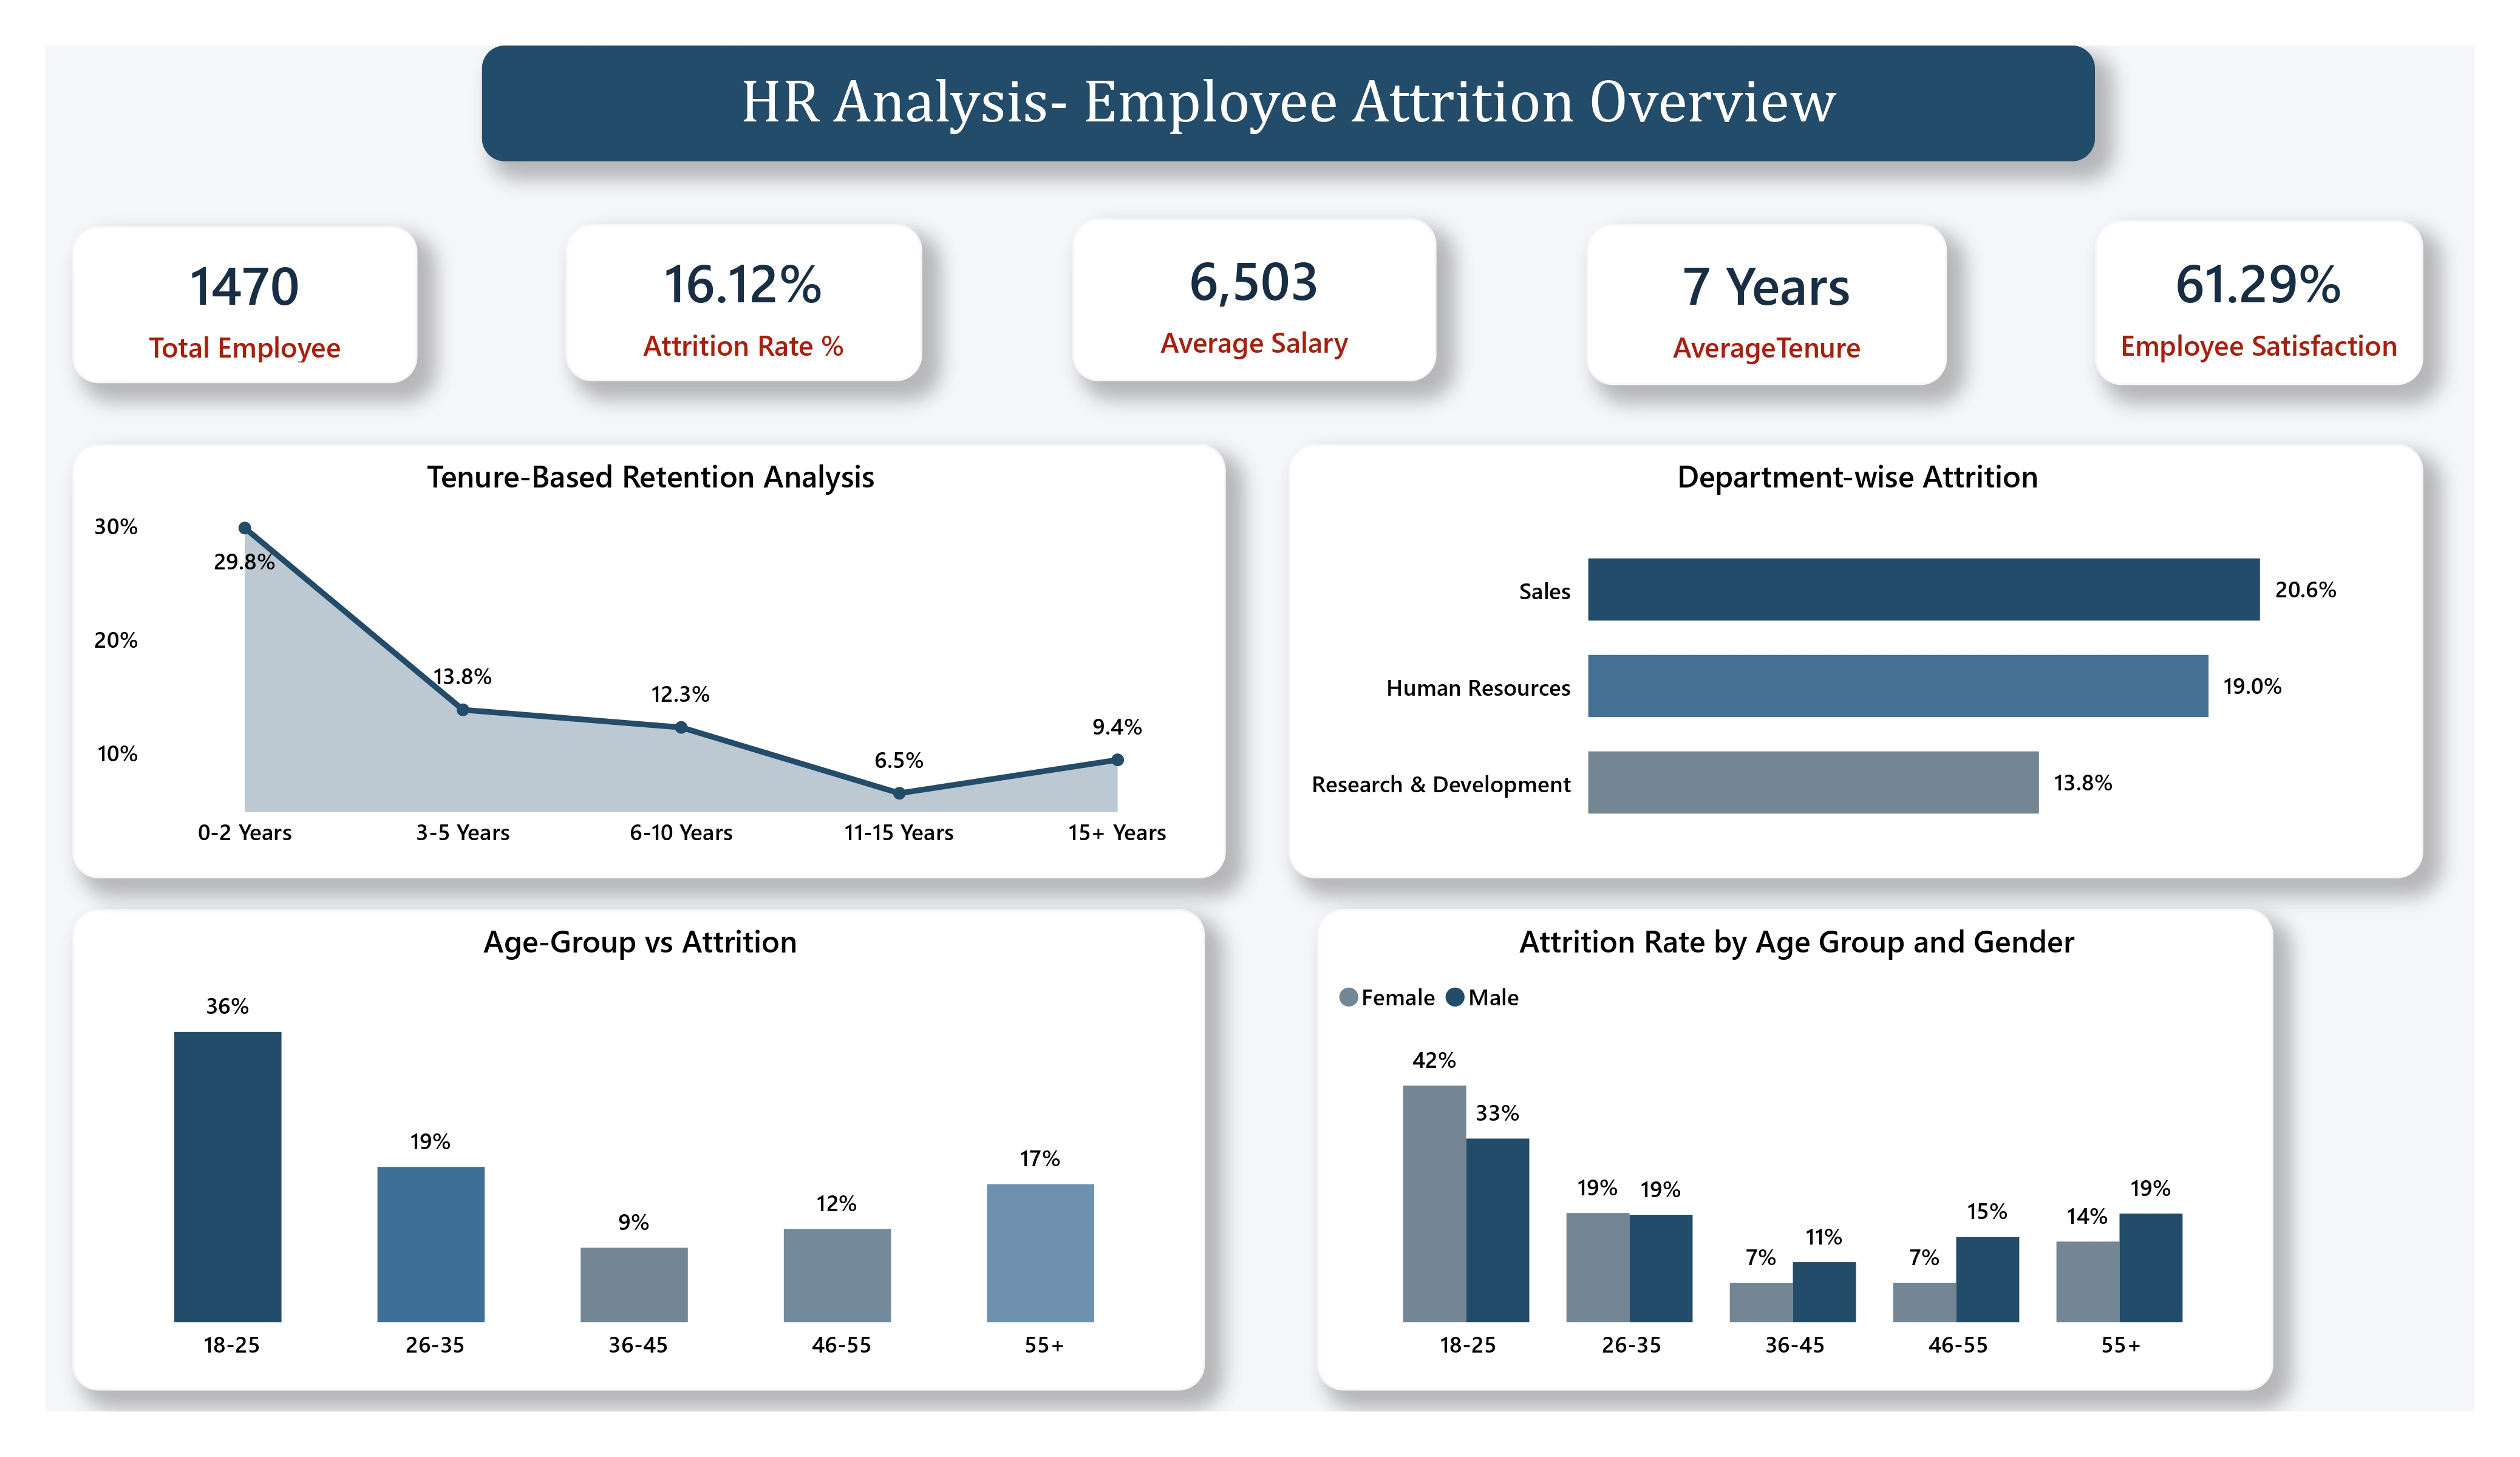

The page's visual inventory and layout, read from the dashboard file:
{"tool":"powerbi","page":{"name":" Employee overview","canvas":[1280,720],"ordinal":0},"visuals":[{"type":"card","fields":{"Values":["Sum(employee_attrition.EmployeeCount)"]},"box":[12.8,92.9,154.3,84.3],"z":0},{"type":"card","fields":{"Values":["employee_attrition.Attrition Rate %"]},"box":[194.1,93.6,161.4,84.3],"z":1000},{"type":"card","fields":{"Values":["employee_attrition.Average Salary"]},"box":[382.4,90,167.1,85.7],"z":2000},{"type":"card","fields":{"Values":["employee_attrition.Avg Years at Company"]},"box":[576.5,90.7,161.4,85.7],"z":3000},{"type":"card","fields":{"Values":["employee_attrition.Avg Job Satisfaction"]},"box":[764.9,91.3,157,87],"z":4000},{"type":"columnChart","title":"Age-Group vs Attrition","fields":{"Y":["employee_attrition.Attrition Rate %"],"Category":["employee_attrition.Age Group"]},"box":[11.4,210,435.7,251.4],"z":5000},{"type":"lineChart","title":"Tenure-Based Retention Analysis","fields":{"Category":["employee_attrition.Experience Group"],"Y":["employee_attrition.Attrition Rate %"]},"box":[472.9,210,437.1,251.4],"z":6000},{"type":"barChart","title":"Department-wise Attrition","fields":{"Category":["employee_attrition.Department"],"Y":["employee_attrition.Attrition Rate %"]},"box":[11.4,478.6,435.7,230],"z":7000},{"type":"textbox","box":[229.6,0,850.4,60.9],"z":8000},{"type":"hundredPercentStackedBarChart","title":"Attrition Rate by Job Function & Role","fields":{"Category":["employee_attrition.JobRole"],"Y":["employee_attrition.Attrition Rate %"],"Series":["employee_attrition.Gender"]},"box":[935.4,93.5,328.8,615.1],"z":9000},{"type":"clusteredColumnChart","title":"Attrition Rate by Age Group and Gender","fields":{"Y":["employee_attrition.Attrition Rate %"],"Category":["employee_attrition.Age Group"],"Series":["employee_attrition.Gender"]},"box":[473,479,437,230],"z":10000}]}

Visuals, with their boxes on the page's 1280x720 design canvas (x1, y1, x2, y2). These are canvas units, not pixel positions in the 2520x1457 screenshot, which may show the page scaled, cropped or inside an application window:
card - Sum(employee_attrition.EmployeeCount): [left=13, top=93, right=167, bottom=177]
card - employee_attrition.Attrition Rate %: [left=194, top=94, right=356, bottom=178]
card - employee_attrition.Average Salary: [left=382, top=90, right=550, bottom=176]
card - employee_attrition.Avg Years at Company: [left=576, top=91, right=738, bottom=176]
card - employee_attrition.Avg Job Satisfaction: [left=765, top=91, right=922, bottom=178]
"Age-Group vs Attrition" columnChart: [left=11, top=210, right=447, bottom=461]
"Tenure-Based Retention Analysis" lineChart: [left=473, top=210, right=910, bottom=461]
"Department-wise Attrition" barChart: [left=11, top=479, right=447, bottom=709]
textbox: [left=230, top=0, right=1080, bottom=61]
"Attrition Rate by Job Function & Role" hundredPercentStackedBarChart: [left=935, top=94, right=1264, bottom=709]
"Attrition Rate by Age Group and Gender" clusteredColumnChart: [left=473, top=479, right=910, bottom=709]
